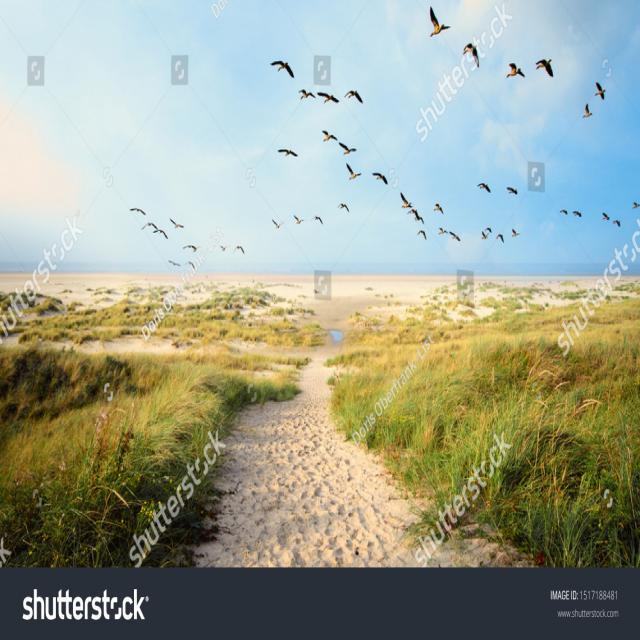bird: (417, 0, 459, 63), (315, 71, 351, 132), (496, 47, 532, 105), (398, 193, 431, 254), (222, 220, 252, 276), (260, 41, 296, 82), (462, 31, 488, 87), (322, 128, 364, 160), (428, 184, 456, 228), (572, 96, 602, 136), (584, 66, 612, 108), (530, 52, 561, 89), (294, 58, 316, 108), (274, 145, 308, 176), (469, 167, 497, 203), (124, 184, 152, 219), (344, 76, 368, 115), (310, 208, 334, 246), (288, 201, 314, 235), (371, 161, 394, 198), (267, 212, 289, 248), (164, 206, 190, 236), (340, 206, 361, 242), (508, 212, 526, 249), (437, 232, 464, 254), (500, 178, 526, 200), (214, 234, 228, 272), (568, 201, 586, 230), (153, 220, 170, 249), (185, 238, 202, 267), (344, 167, 367, 187), (614, 206, 622, 242), (631, 192, 640, 217), (168, 256, 179, 272), (557, 209, 572, 216), (603, 212, 611, 218), (475, 236, 508, 237)
